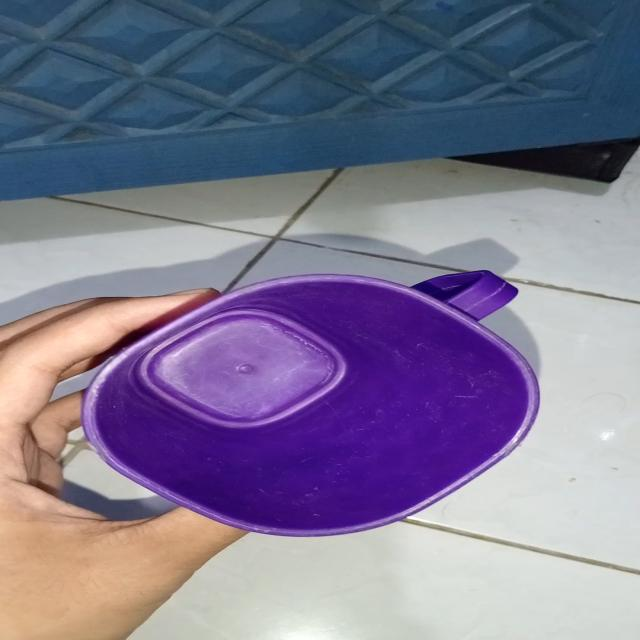gelas bekas: (78, 268, 542, 538)
